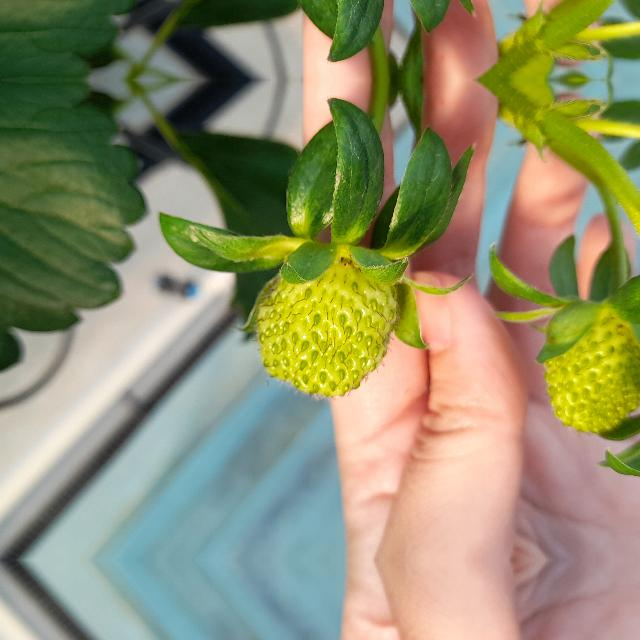Health_25: (252, 258, 400, 400), (541, 297, 639, 437)
